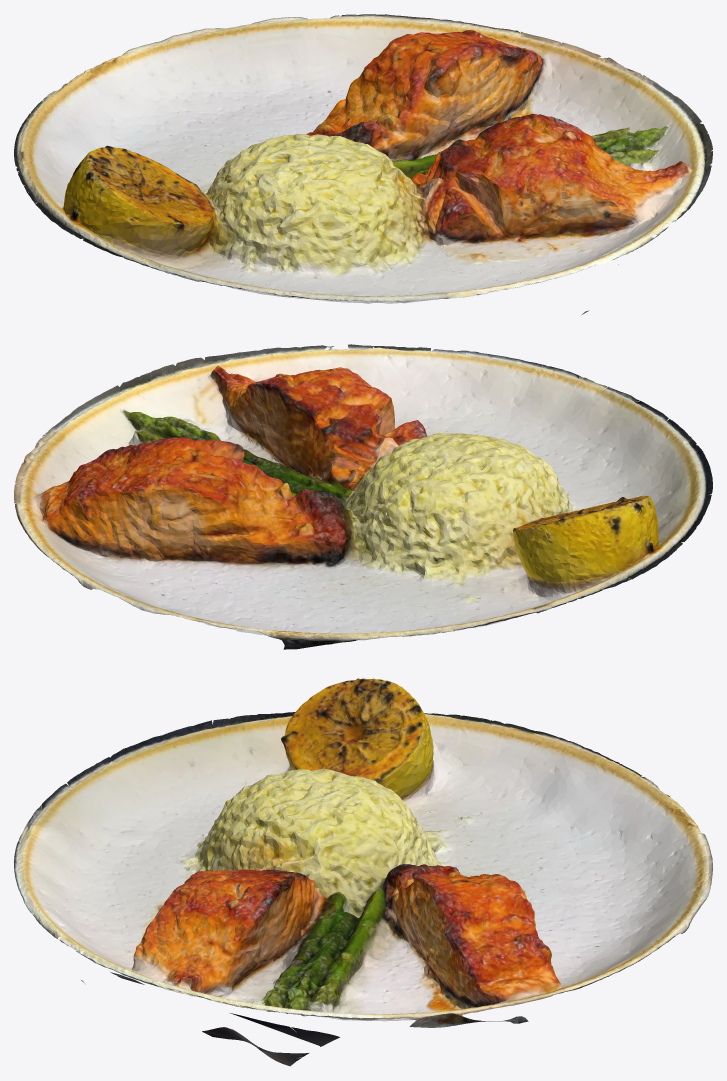
Rendered from somon-nou.glb.
3 renders of one model, top to bottom at view 1: azimuth 30°, elevation 25°; view 2: azimuth 150°, elevation 25°; view 3: azimuth 270°, elevation 25°, orthographic.
Size of the model in its own units: 0.2826 by 0.058 by 0.2799.
1 material, 1 textured.
